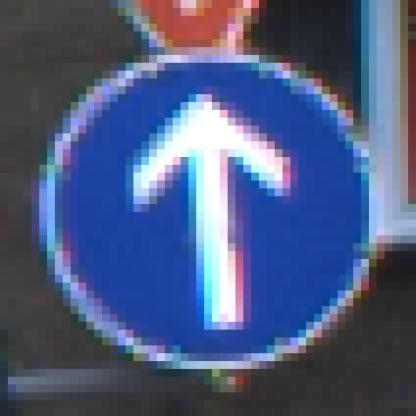AheadOnly: (48, 48, 378, 378)
